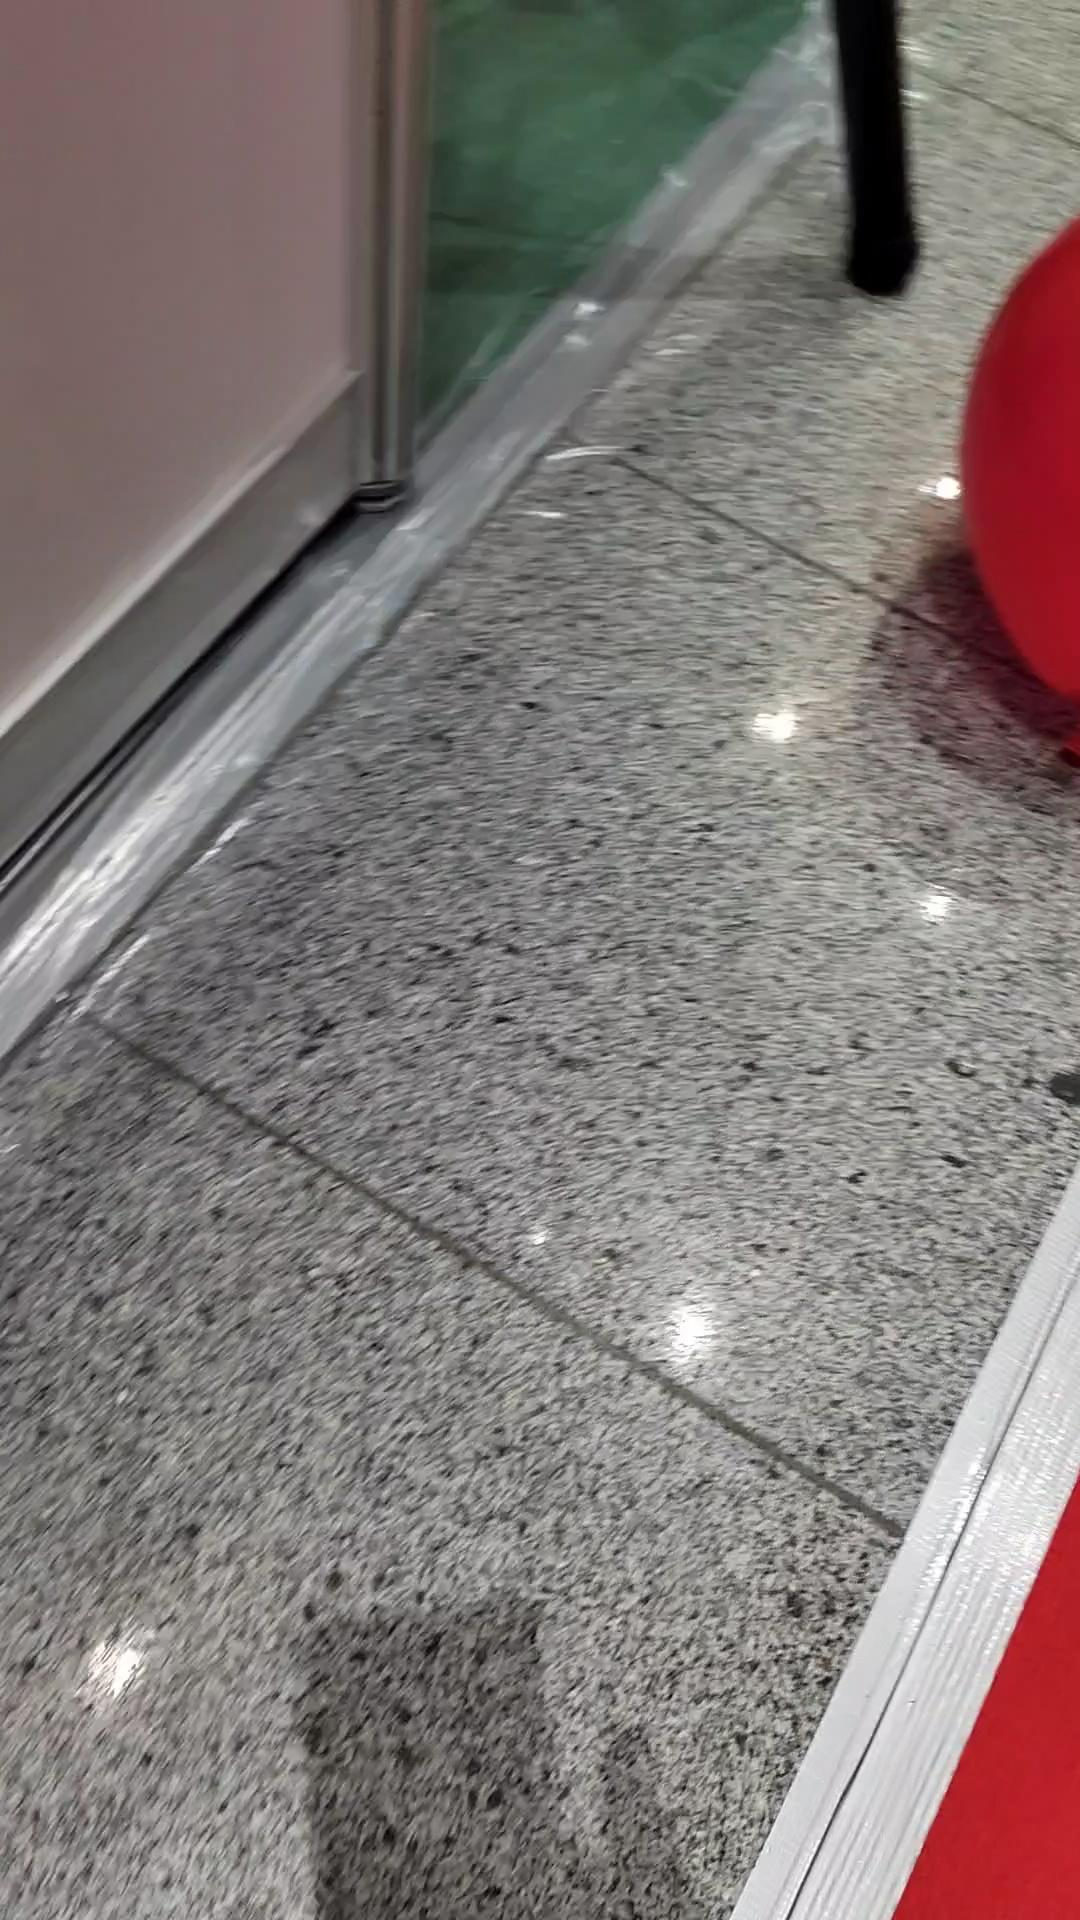red: (956, 204, 1080, 732)
